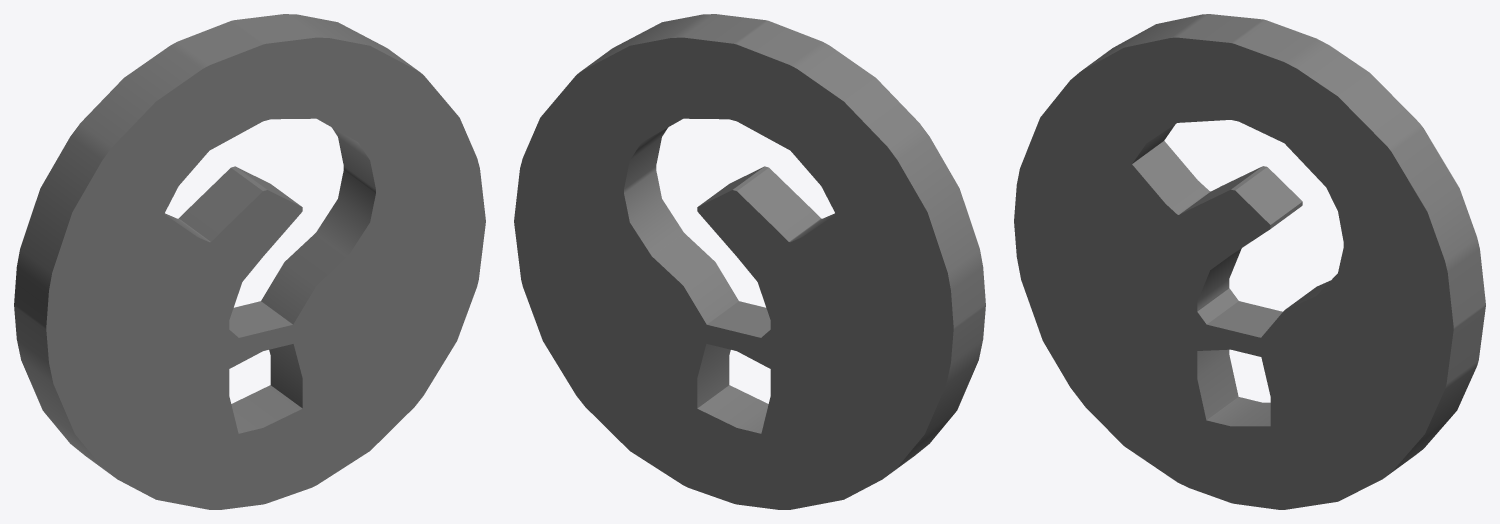
Rendered from fa-question-circle.obj.
3 renders of one model, left to right at view 1: azimuth 30°, elevation 25°; view 2: azimuth 150°, elevation 25°; view 3: azimuth 330°, elevation 25°, orthographic.
Size of the model in its own units: 0.907 by 0.907 by 0.1152.
1 material, 1 textured.
